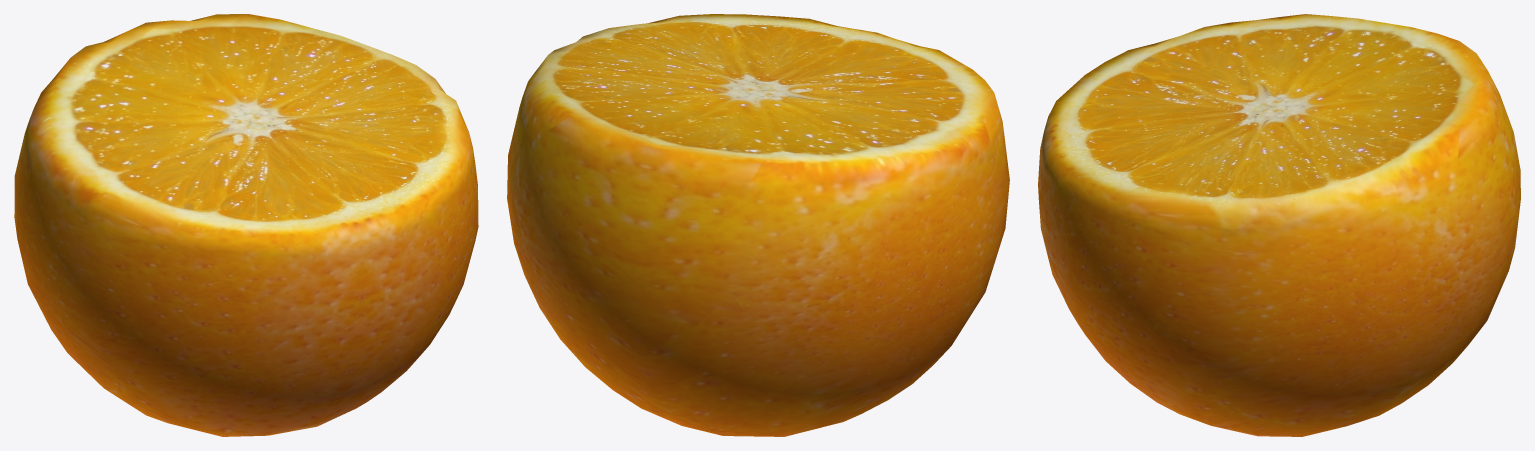
Rendered from sdsdfs.unity_1.obj.
The picture shows the model from 3 angles, left to right: view 1: azimuth 30°, elevation 25°; view 2: azimuth 150°, elevation 25°; view 3: azimuth 270°, elevation 25°; orthographic projection. The views are drawn at different scales.
Parts seen in each view (by area): view 1: default; view 2: default; view 3: default.
Part boxes in pixels (x1,y1,x2,y2): default: [14, 14, 478, 436]; default: [507, 14, 1009, 436]; default: [1038, 14, 1520, 436].
Size of the model in its own units: 27.8 by 21.09 by 27.78.
